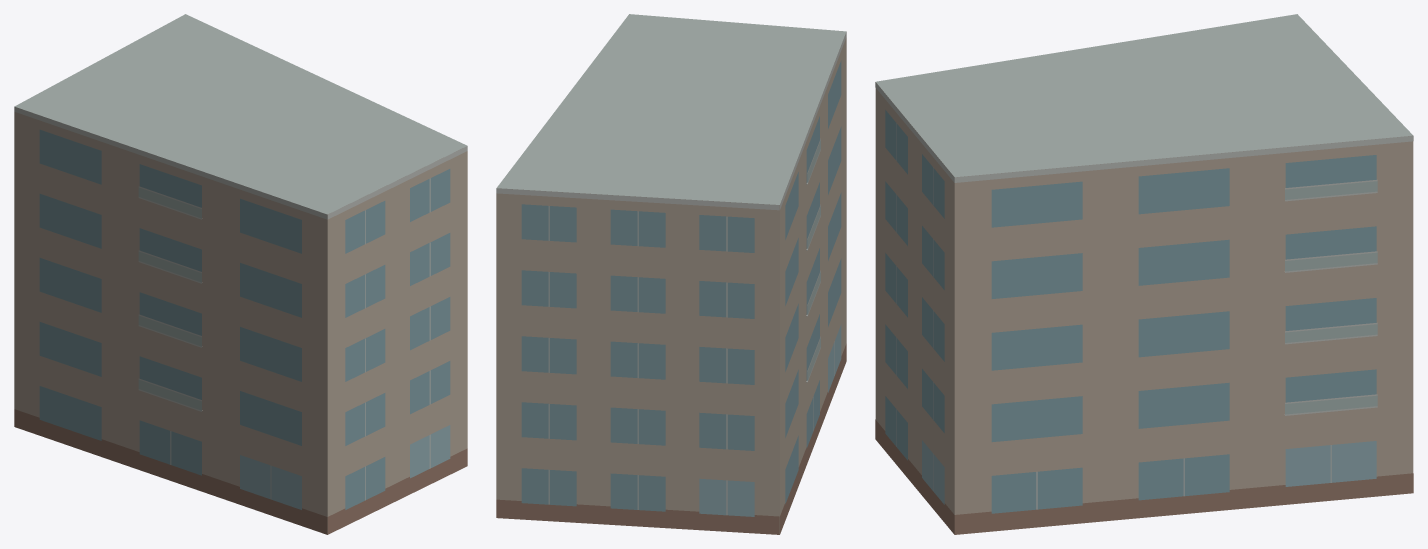
Rendered from residential-98a24cac-01b5-45a0-9c20-734bdaced3aa.glb.
3 views of the same model, side by side, from view 1: azimuth 30°, elevation 25°; view 2: azimuth 150°, elevation 25°; view 3: azimuth 270°, elevation 25° (orthographic). The views are drawn at different scales.
Visible parts, largest first — view 1: residential-98a24cac-01b5-45a0-9c20-734bdaced3aa.tmp; view 2: residential-98a24cac-01b5-45a0-9c20-734bdaced3aa.tmp; view 3: residential-98a24cac-01b5-45a0-9c20-734bdaced3aa.tmp.
Boxes of the visible parts, x1,y1,x2,y2 form: residential-98a24cac-01b5-45a0-9c20-734bdaced3aa.tmp: (14, 14, 467, 534); residential-98a24cac-01b5-45a0-9c20-734bdaced3aa.tmp: (496, 14, 846, 534); residential-98a24cac-01b5-45a0-9c20-734bdaced3aa.tmp: (875, 14, 1413, 534).
Bounding box in the file's own units: 14.95 × 15.25 × 20.81.
